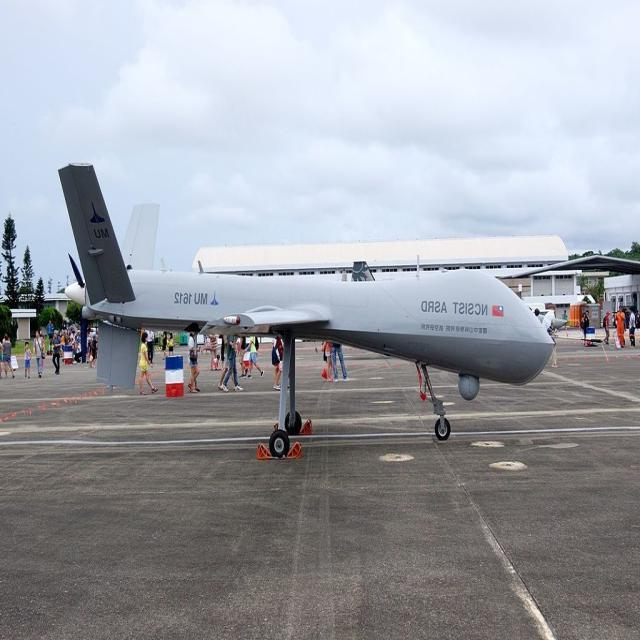iha: (53, 156, 558, 462)
